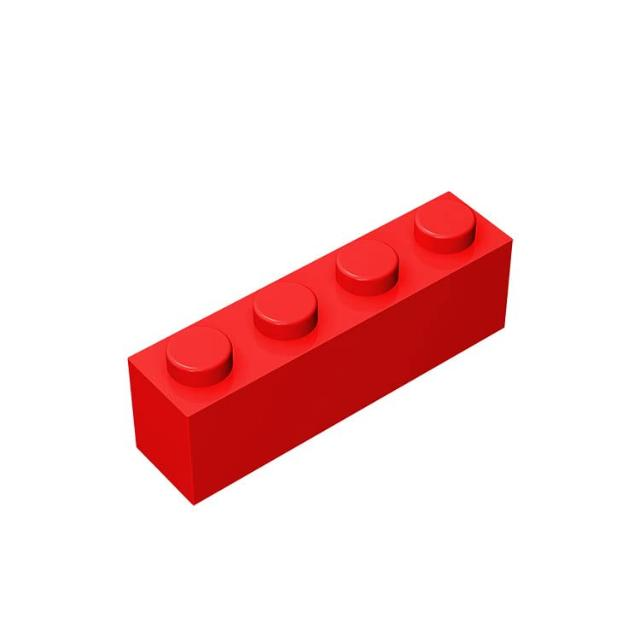1x4: (129, 192, 511, 503)
